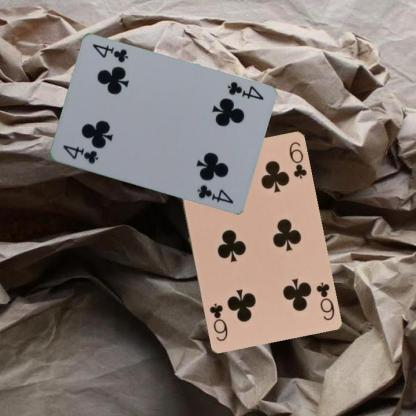4c: (224, 79, 265, 102), (60, 142, 100, 165)
6c: (313, 279, 336, 321)
